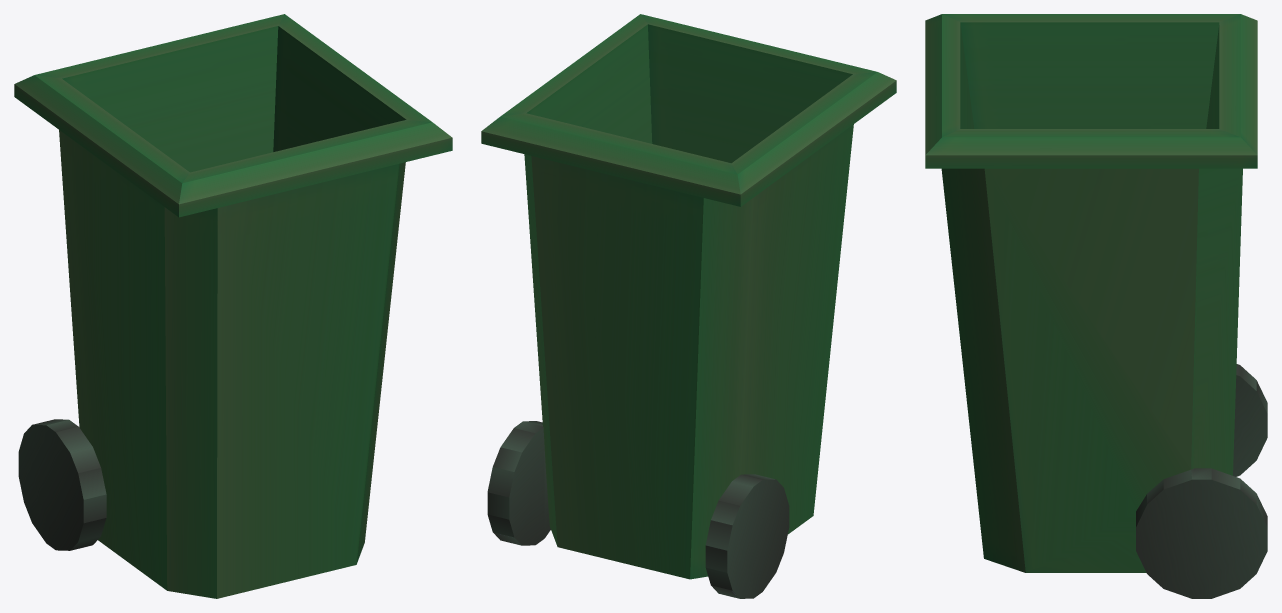
The model's file is trashcan_big.fbx.
3 views of the same model, side by side, from view 1: azimuth 30°, elevation 25°; view 2: azimuth 150°, elevation 25°; view 3: azimuth 270°, elevation 25° (orthographic). The views are drawn at different scales.
Visible parts, largest first — view 1: Trashcan_v2; view 2: Trashcan_v2; view 3: Trashcan_v2.
Part boxes in pixels (left/top/right/bottom): Trashcan_v2: left=14, top=14, right=452, bottom=598; Trashcan_v2: left=481, top=14, right=896, bottom=598; Trashcan_v2: left=925, top=14, right=1267, bottom=598.
Bounding box in the file's own units: 179 × 286 × 192.
